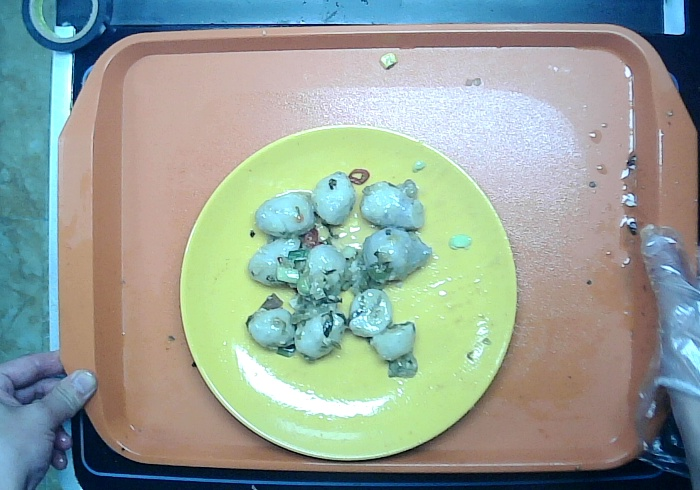HZYJPL-Huang_Se_Yuan_Pan: (171, 115, 523, 468)
